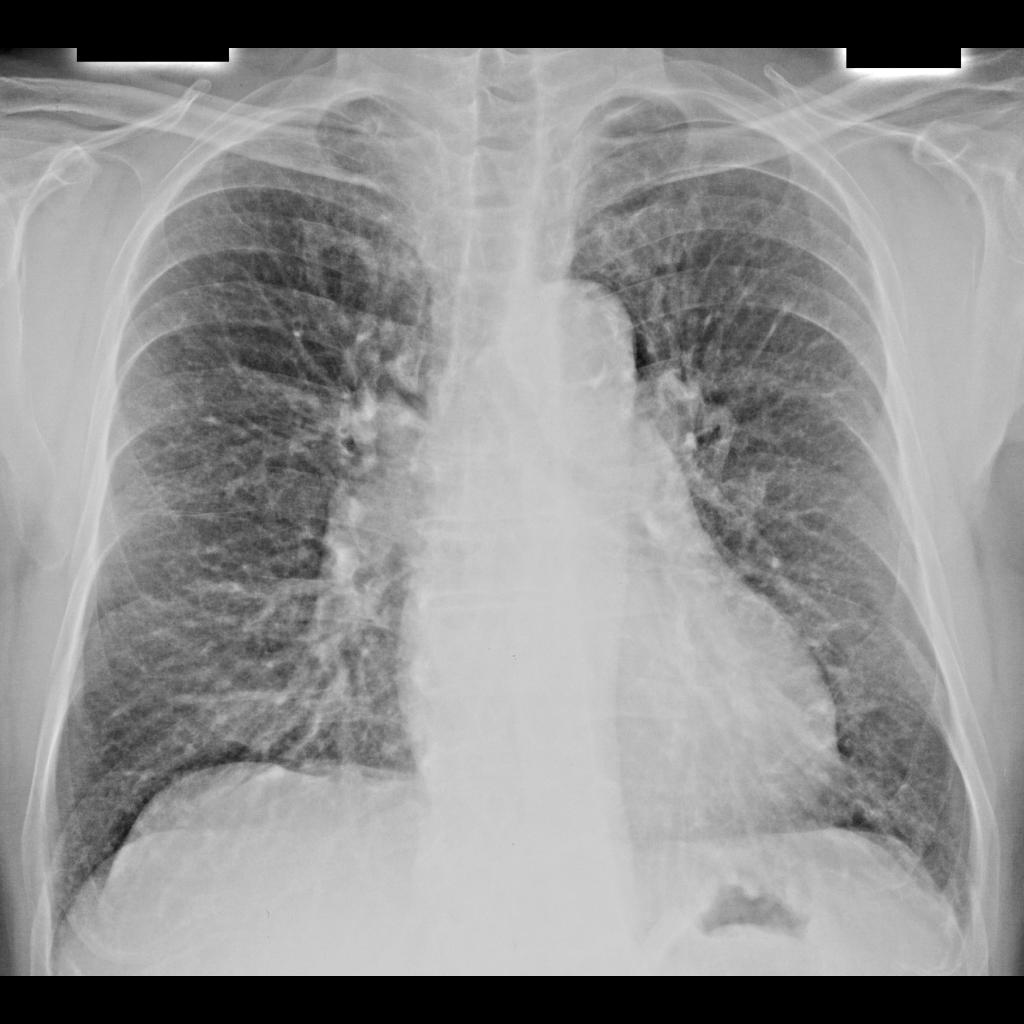Nodule: (202, 662, 282, 742)
